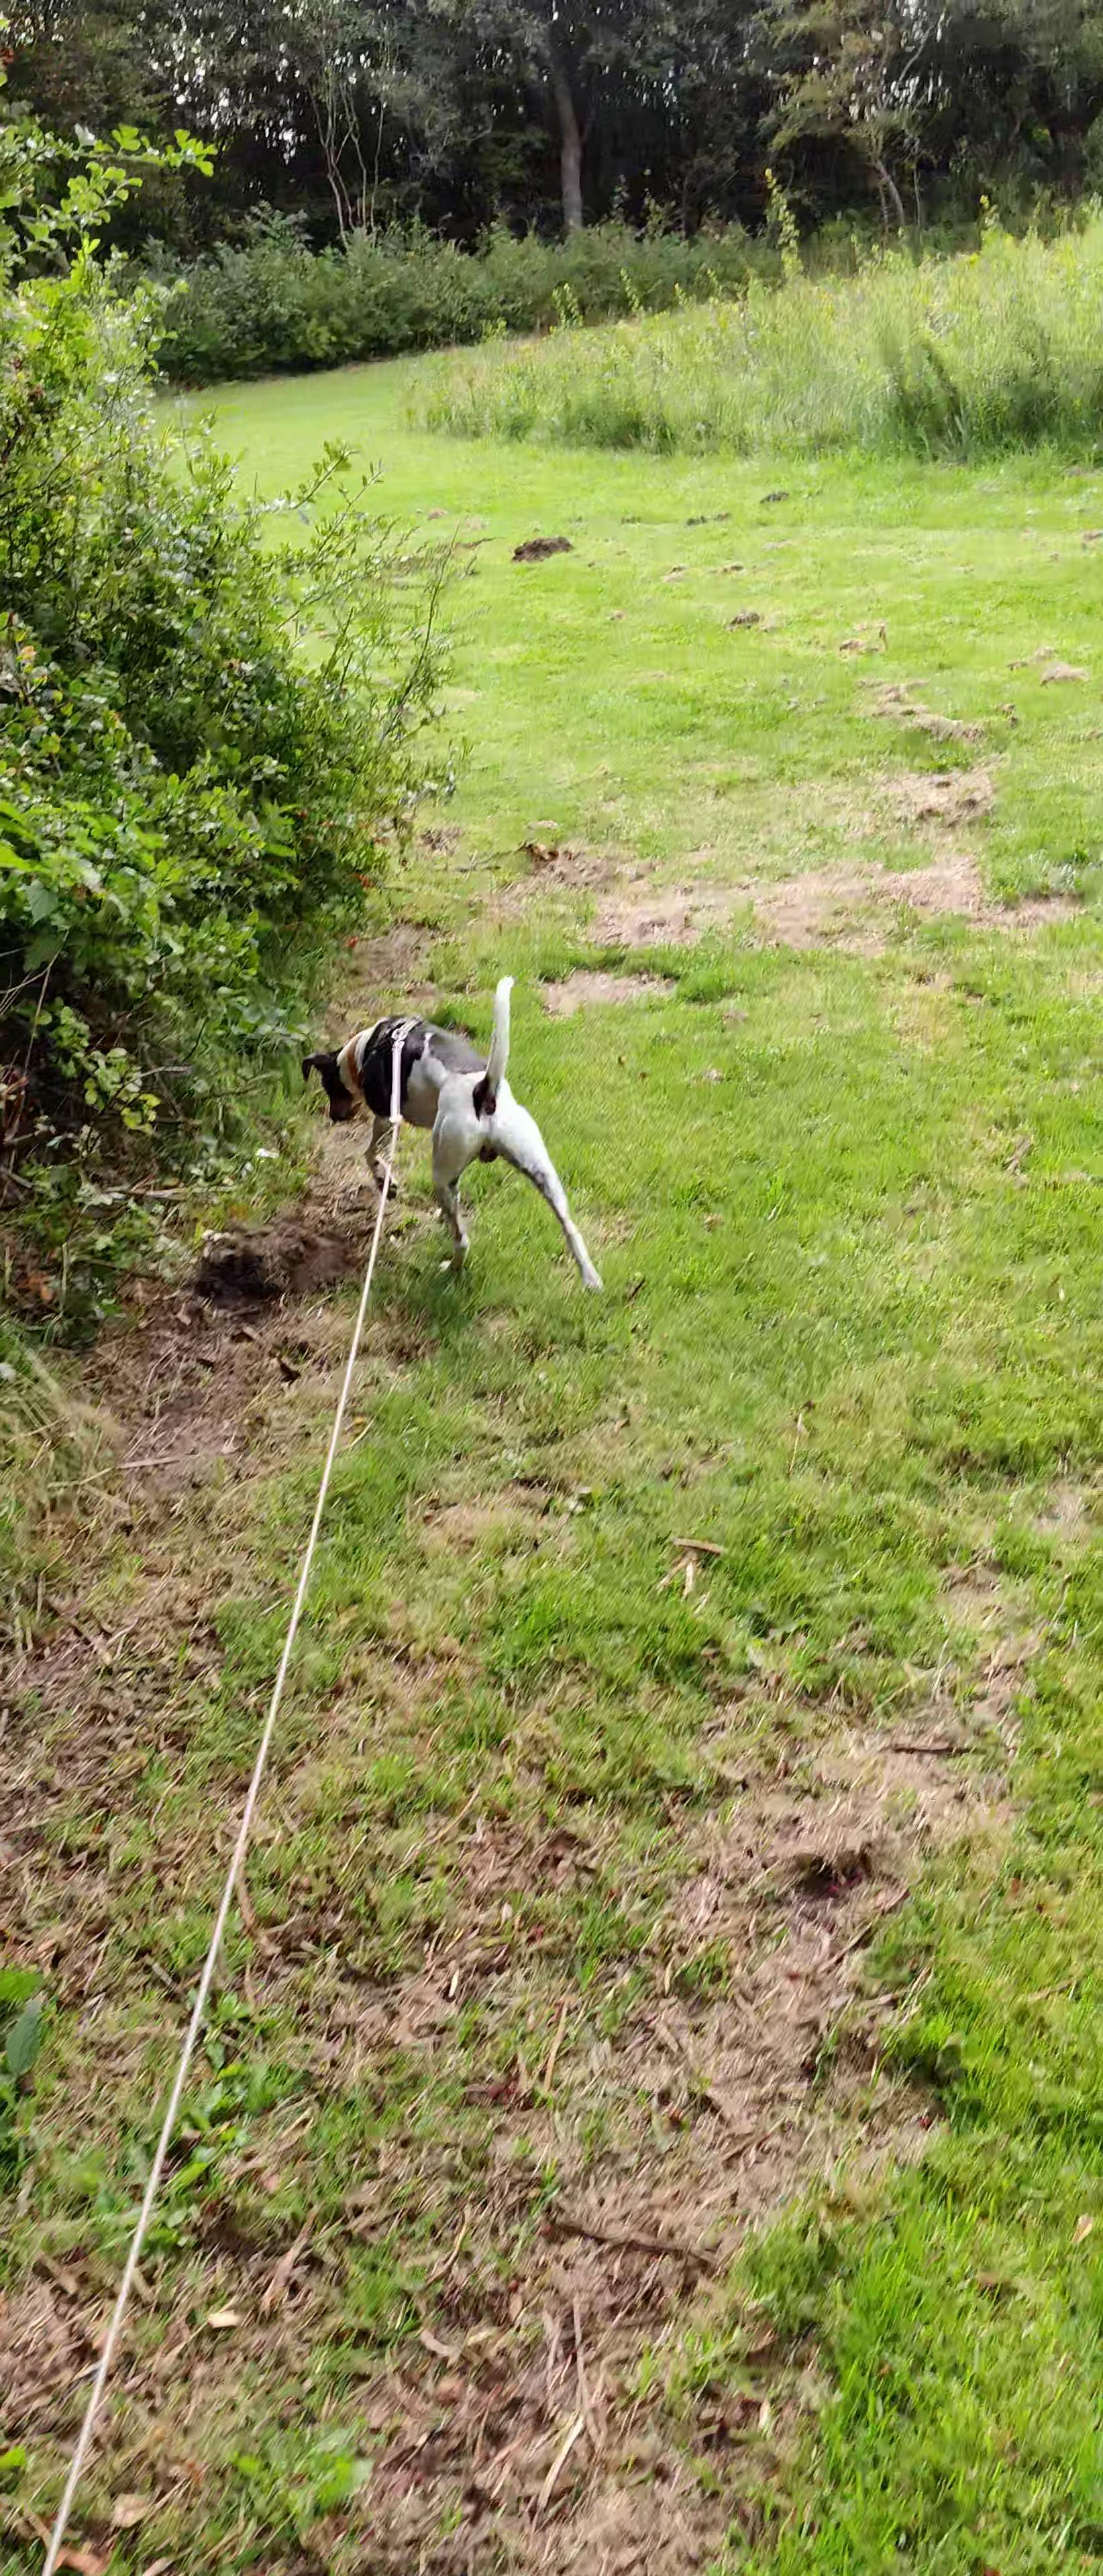Dog: (286, 968, 616, 1344)
